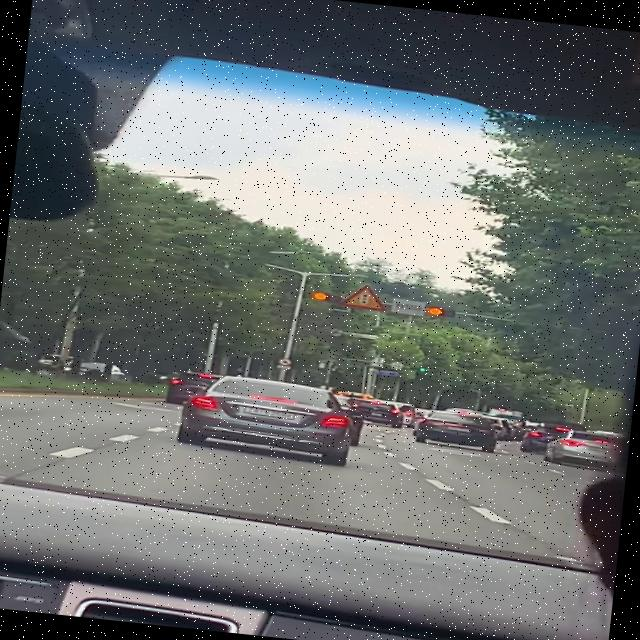yellow_light: (426, 306, 456, 317), (311, 292, 341, 302)
